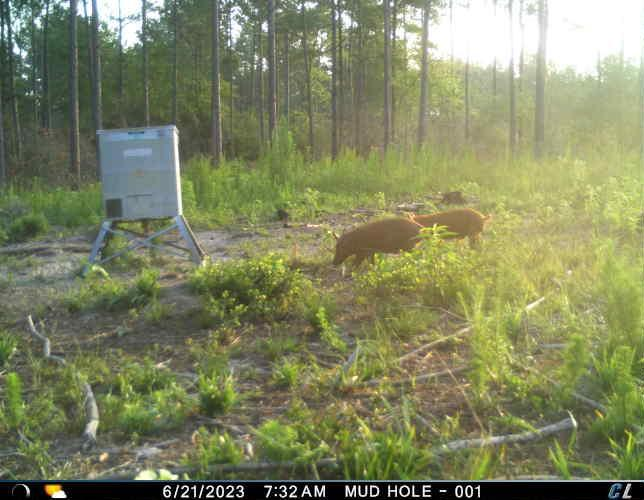Hog: (332, 215, 426, 274), (414, 208, 489, 250)
